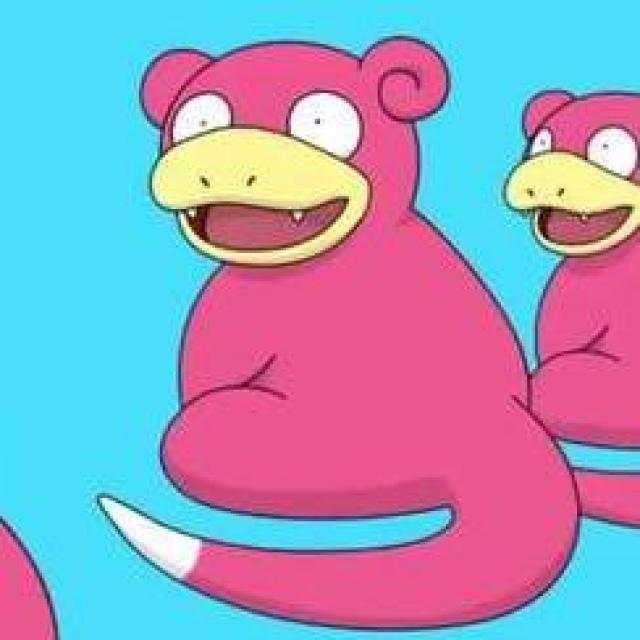Slowpoke: (126, 32, 508, 511), (503, 62, 640, 442)
